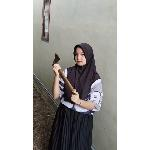Kapak: (51, 51, 79, 97)
